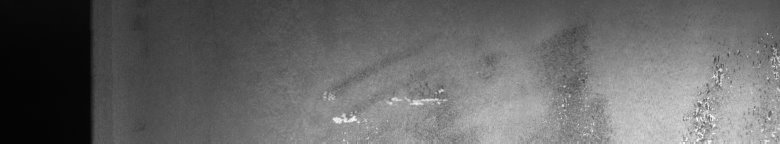hc: (683, 33, 776, 136)
